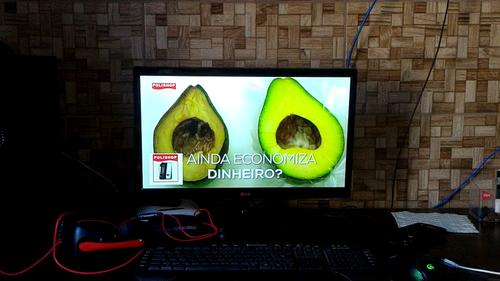Polishop #1: (149, 152, 183, 184)
